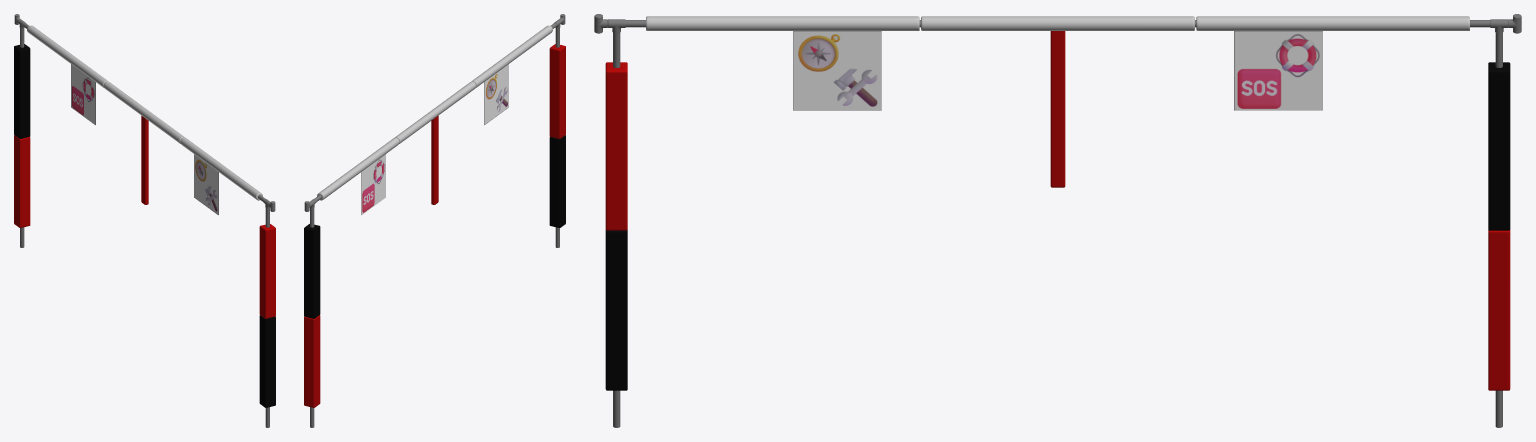
The model's file is gate.dae.
The picture shows the model from 3 angles, left to right: view 1: azimuth 30°, elevation 25°; view 2: azimuth 150°, elevation 25°; view 3: azimuth 270°, elevation 25°; orthographic projection. The views are drawn at different scales.
Parts seen in each view (by area): view 1: gate_frame, gate_right, gate_left, gate_arrow_blue_ccw, gate_arrow_red_cw, gate_middle; view 2: gate_frame, gate_right, gate_left, gate_arrow_red_cw, gate_arrow_blue_ccw, gate_middle; view 3: gate_frame, gate_right, gate_left, gate_arrow_blue_ccw, gate_arrow_red_cw, gate_middle.
Part boxes in pixels (x1=…): gate_frame: x1=14, y1=14, x2=275, y2=427; gate_right: x1=259, y1=224, x2=275, y2=407; gate_left: x1=14, y1=44, x2=30, y2=227; gate_arrow_blue_ccw: x1=71, y1=64, x2=95, y2=124; gate_arrow_red_cw: x1=194, y1=154, x2=218, y2=214; gate_middle: x1=141, y1=115, x2=148, y2=204; gate_frame: x1=304, y1=14, x2=565, y2=427; gate_right: x1=549, y1=44, x2=565, y2=227; gate_left: x1=304, y1=224, x2=320, y2=407; gate_arrow_red_cw: x1=484, y1=64, x2=508, y2=124; gate_arrow_blue_ccw: x1=361, y1=154, x2=385, y2=214; gate_middle: x1=431, y1=115, x2=438, y2=204; gate_frame: x1=594, y1=14, x2=1521, y2=427; gate_right: x1=605, y1=62, x2=627, y2=390; gate_left: x1=1488, y1=62, x2=1510, y2=390; gate_arrow_blue_ccw: x1=1234, y1=31, x2=1322, y2=110; gate_arrow_red_cw: x1=793, y1=31, x2=881, y2=110; gate_middle: x1=1050, y1=31, x2=1065, y2=187.
Size of the model in its own units: 0.0762 by 3.2 by 1.57.
Materials: 6 (2 with a texture image).
